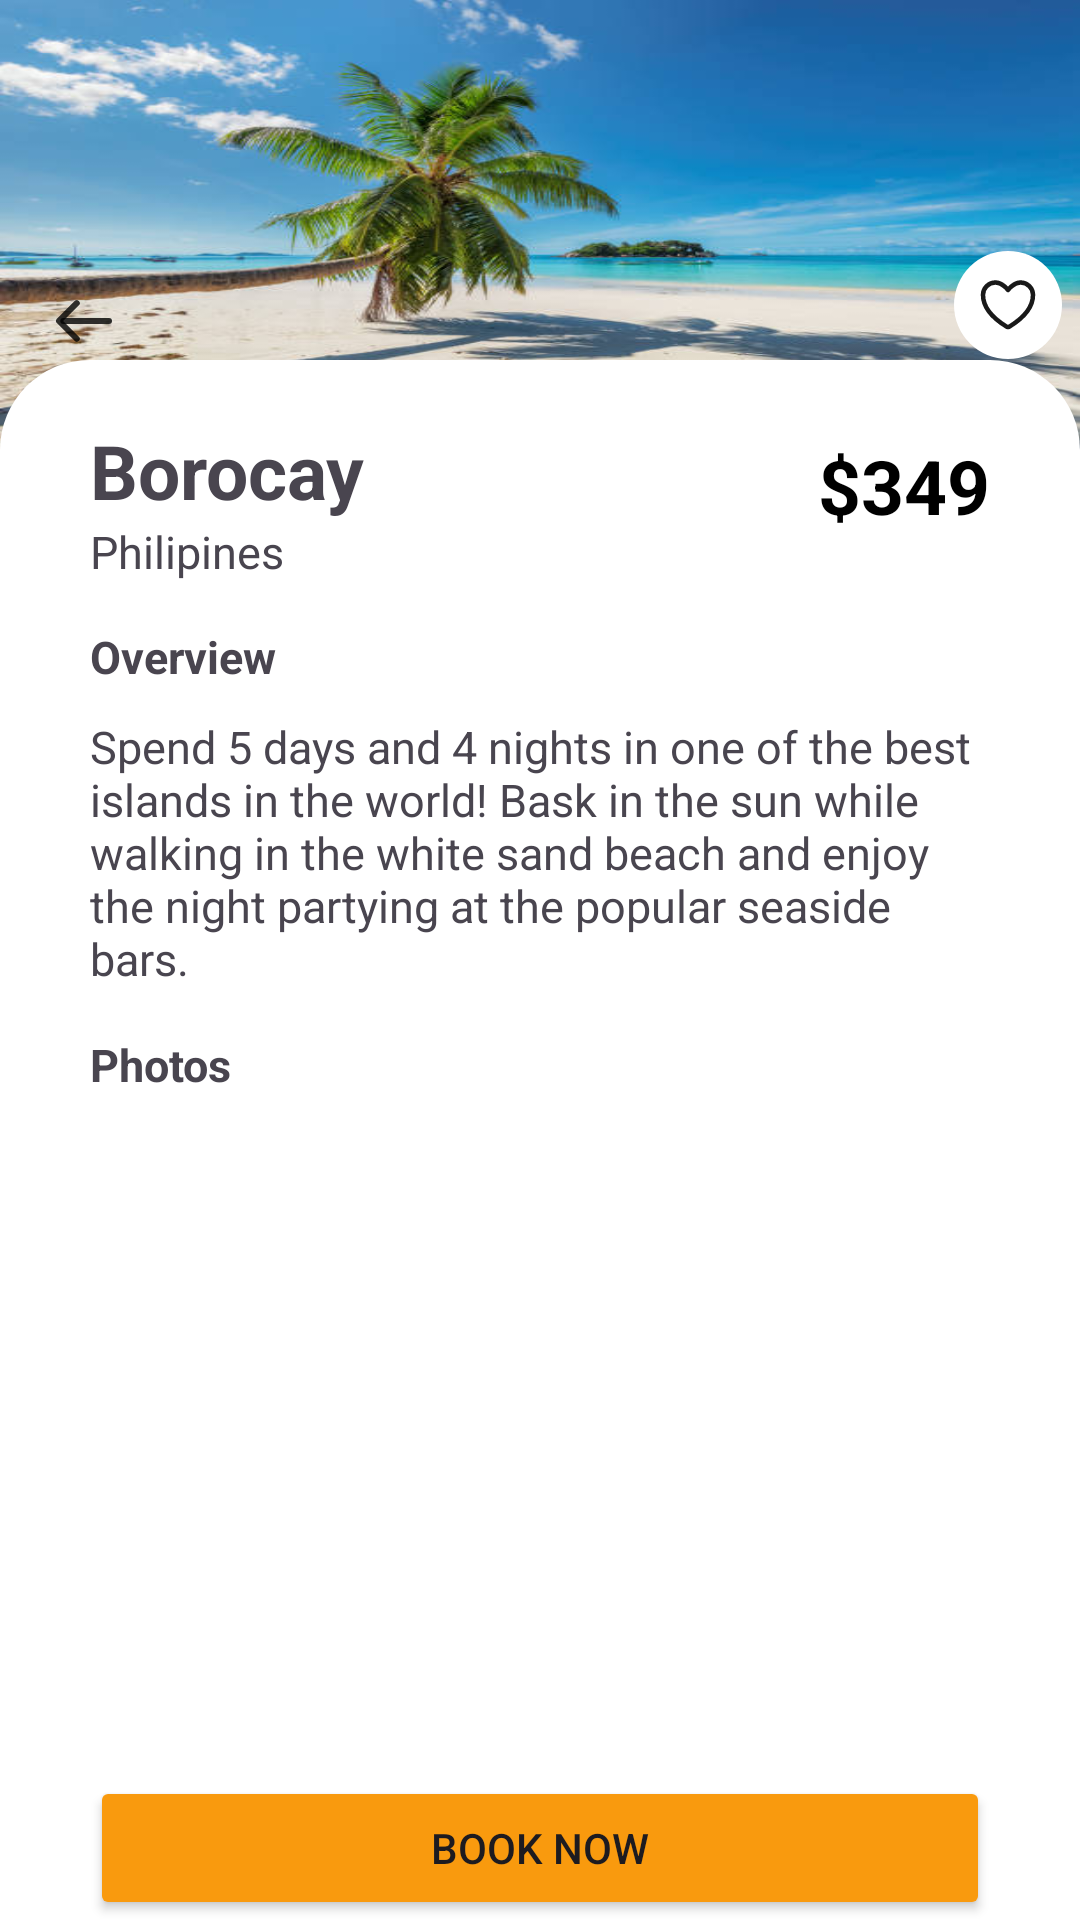

Point at icon controls on the screen. Image size 1080w x 1920h, points as [x,y].
back arrow: [85,322]
save details false: [1008,310]
